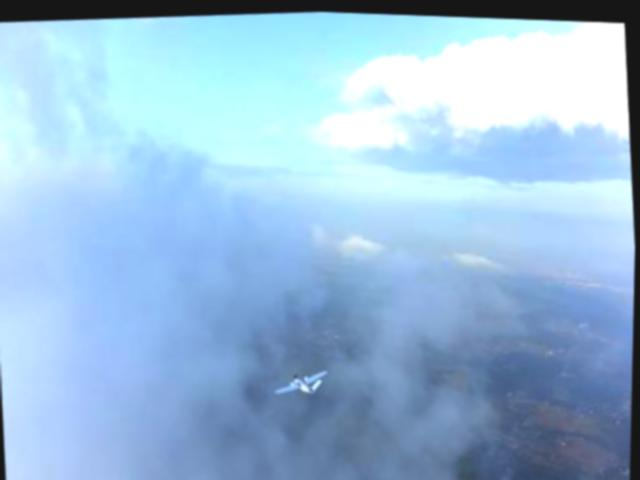uav: (271, 358, 331, 397)
